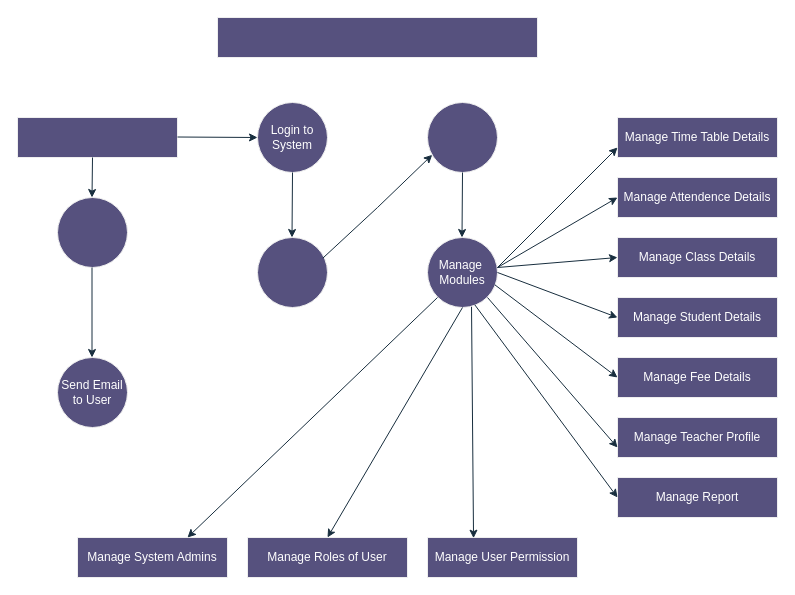
The diagram is 795 pixels wide and 595 high, and some of its shapes have lost their labels. The centre of each missing label's shape, as x and y in pixels:
"Admin" belongs at (97,137).
"Check Credentials" belongs at (292,272).
"Check Roles of Actions" belongs at (462,137).
"Forgot Password" belongs at (92,232).
"Student Information System" belongs at (377,37).
